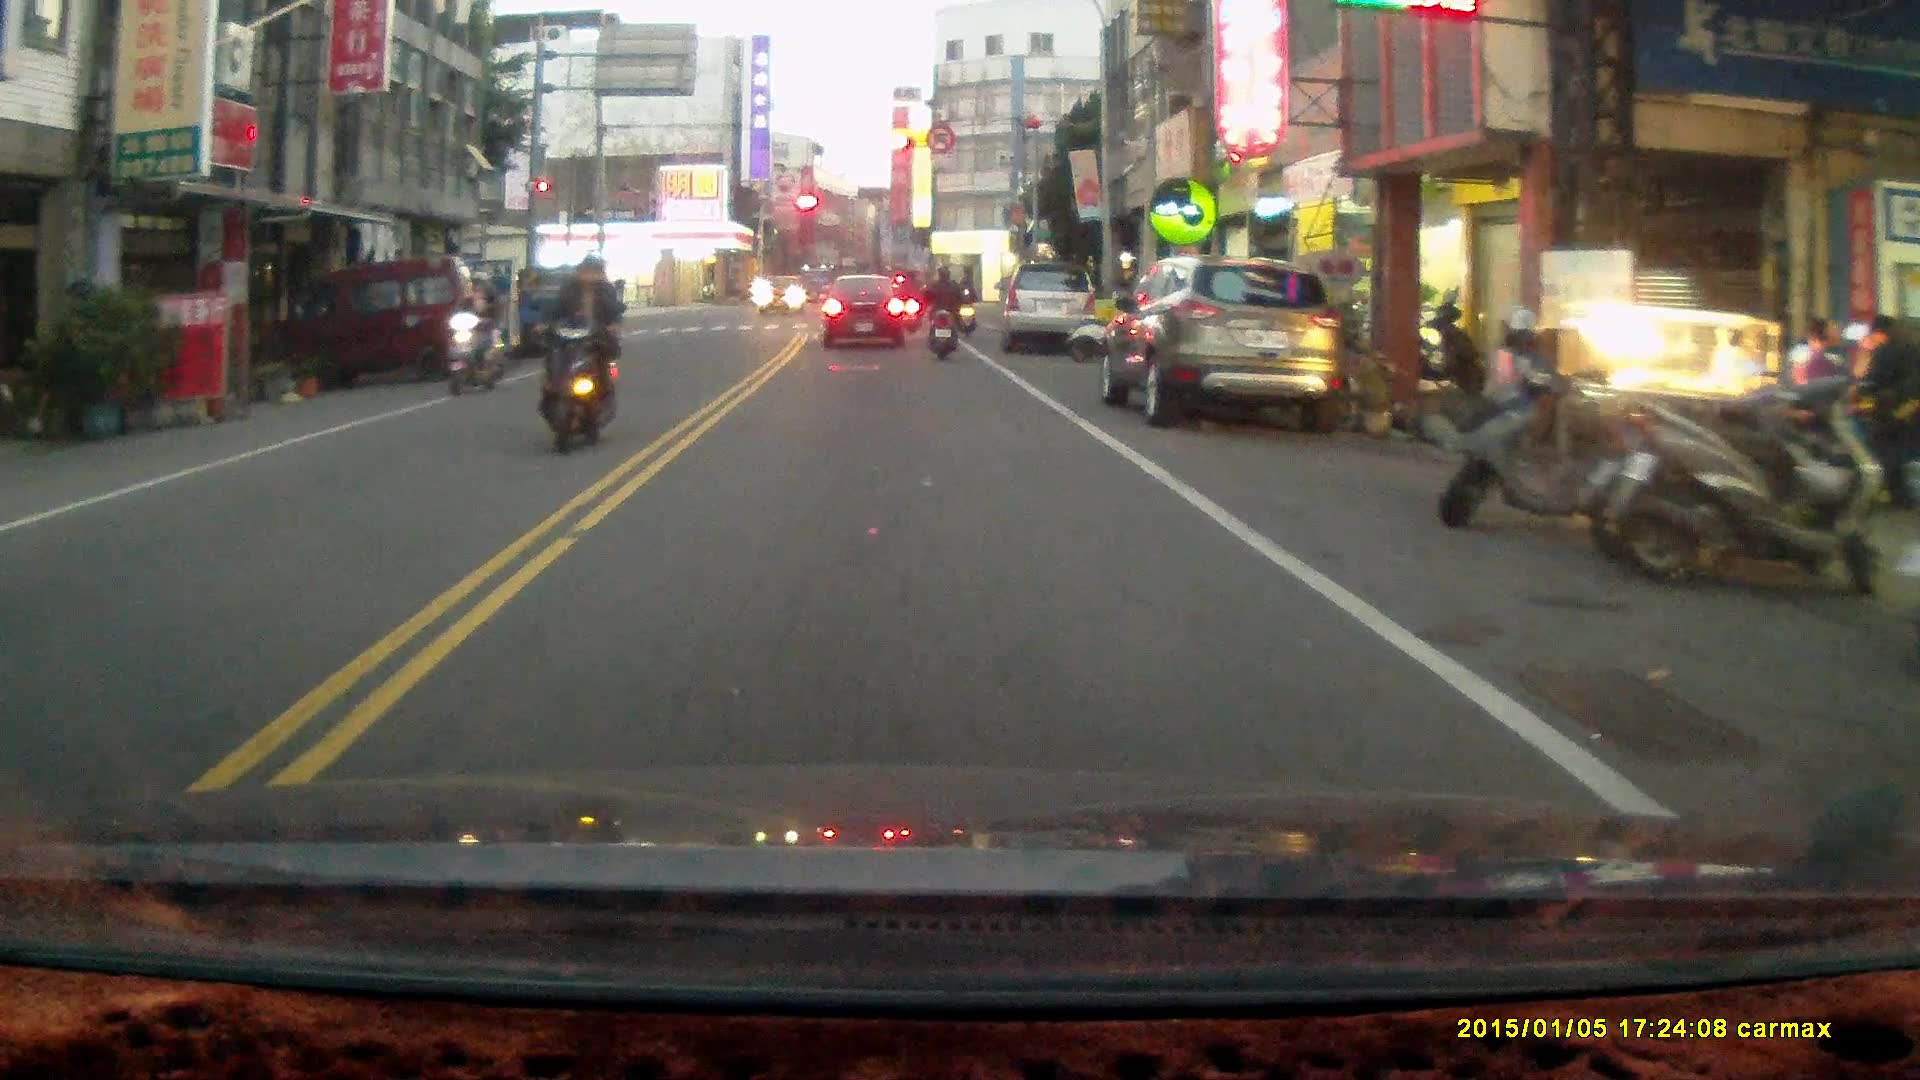pedestrian: (1853, 312, 1920, 514), (1792, 314, 1850, 481)
rider: (531, 251, 620, 457), (442, 269, 507, 399), (917, 264, 962, 362), (895, 266, 923, 330), (953, 275, 979, 338)
vehicle: (1102, 255, 1347, 435), (278, 253, 491, 395), (1003, 262, 1100, 355), (822, 278, 912, 350)
